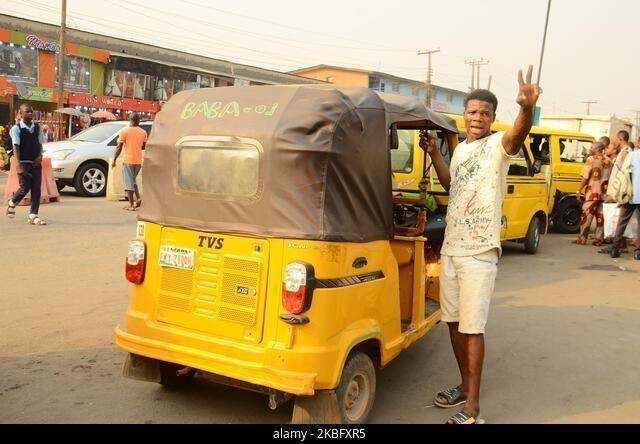keke: (106, 82, 444, 425)
